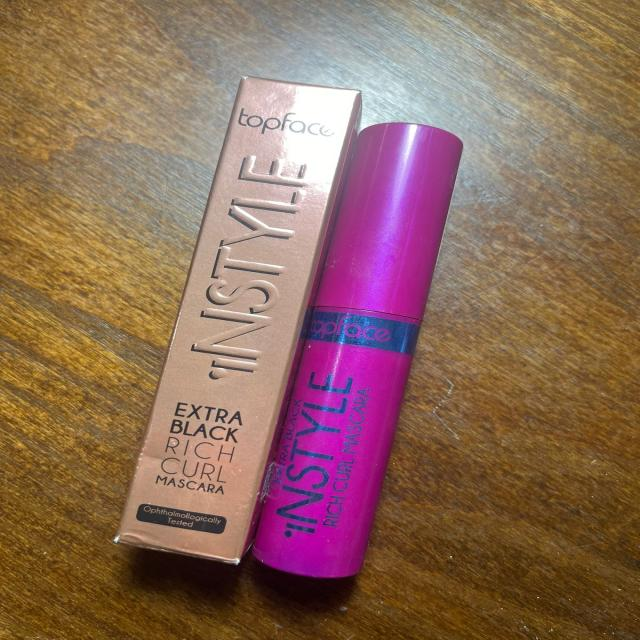mascara: (240, 124, 493, 606)
